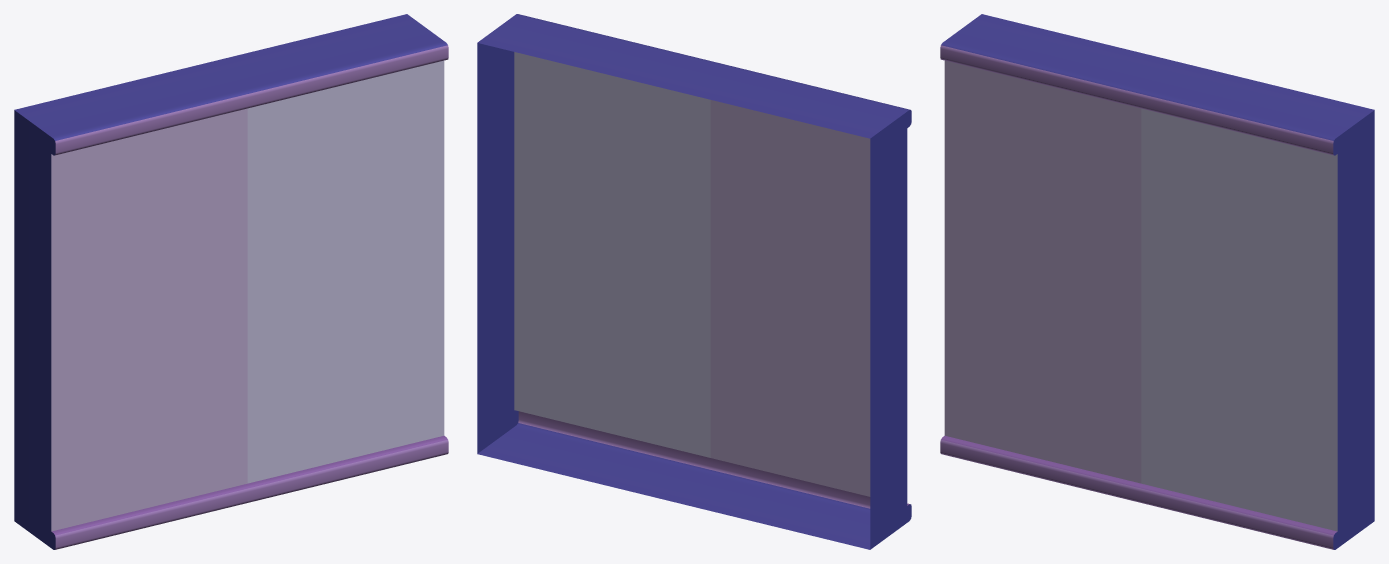
File: Road_01.FBX
The picture shows the model from 3 angles, left to right: view 1: azimuth 30°, elevation 25°; view 2: azimuth 150°, elevation 25°; view 3: azimuth 330°, elevation 25°; orthographic projection.
Visible parts, largest first — view 1: Road_01; view 2: Road_01; view 3: Road_01.
Boxes of the visible parts, <box> form: Road_01: <box>14,14,448,549</box>; Road_01: <box>477,14,911,549</box>; Road_01: <box>940,14,1374,549</box>.
Bounding box in the file's own units: 503 × 92.3 × 503.
